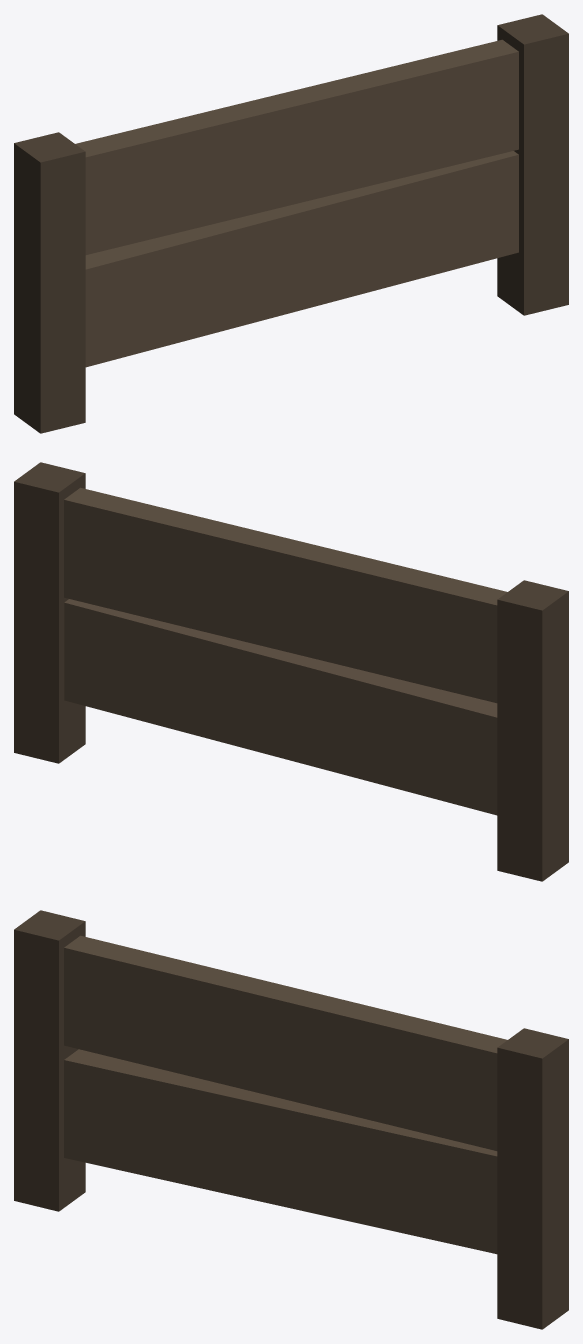
Rendered from fence.fbx.
3 renders of one model, top to bottom at view 1: azimuth 30°, elevation 25°; view 2: azimuth 150°, elevation 25°; view 3: azimuth 330°, elevation 25°, orthographic.
Parts seen in each view (by area): view 1: polySurface6; view 2: polySurface6; view 3: polySurface6.
Part boxes in pixels (left/top/right/bottom): polySurface6: left=14, top=14, right=568, bottom=433; polySurface6: left=14, top=462, right=568, bottom=881; polySurface6: left=14, top=910, right=568, bottom=1329.
Bounding box in the file's own units: 3.81 × 1.87 × 0.3316.
